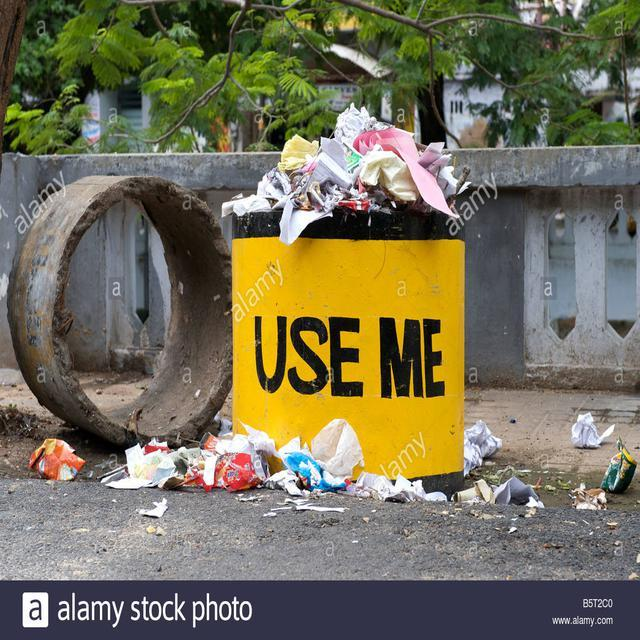garbage: (219, 94, 461, 243), (94, 414, 426, 509), (451, 417, 546, 524), (18, 428, 93, 500), (554, 406, 623, 456)
